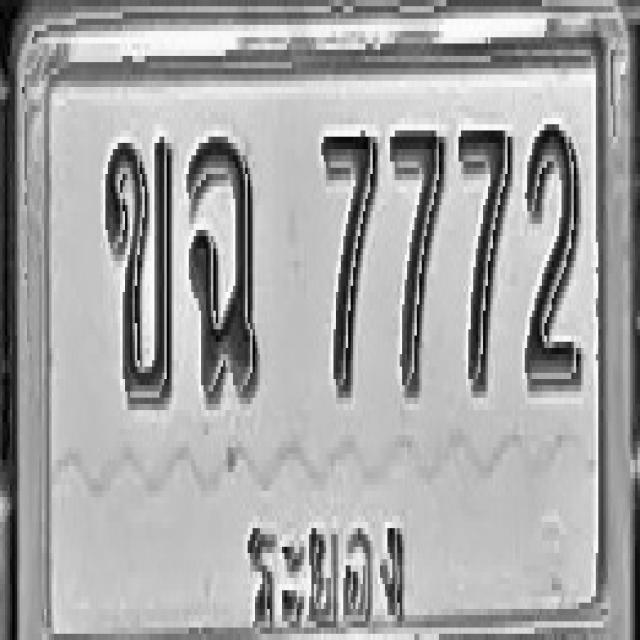11KhorKhai: (104, 130, 173, 404)
18ChorChing: (186, 127, 260, 401)
2: (525, 115, 581, 388)
7: (389, 121, 445, 395), (320, 124, 376, 398), (458, 121, 512, 395)
Rayong: (240, 491, 410, 640)
